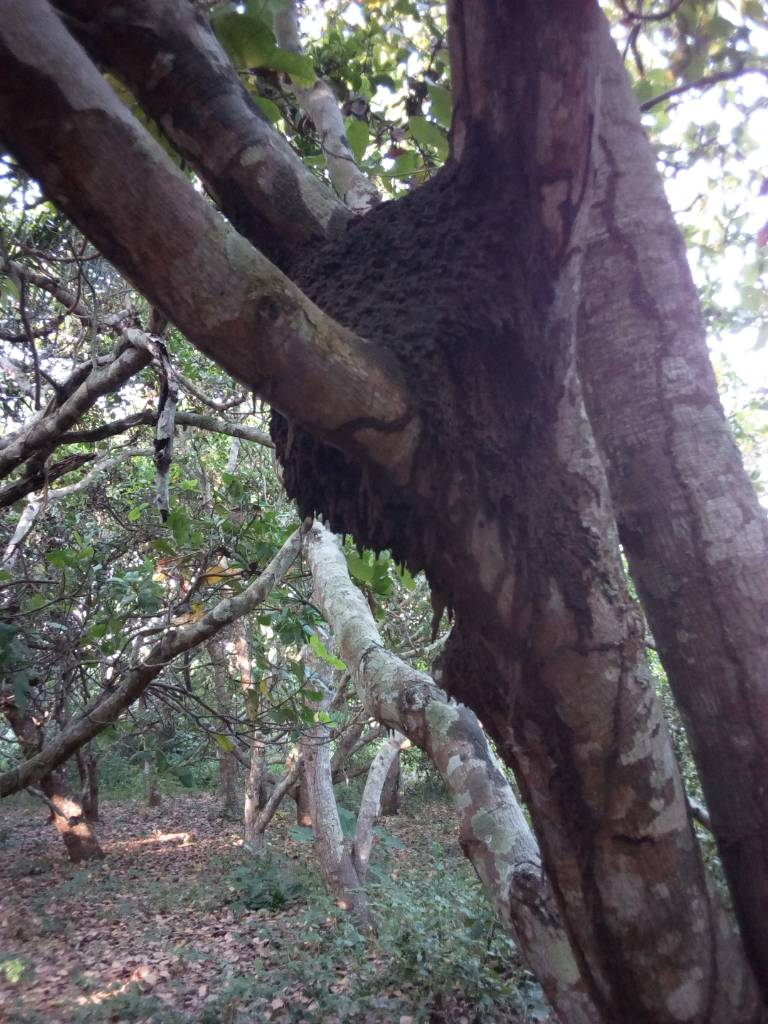Termites: (390, 194, 607, 591), (300, 467, 390, 547)
